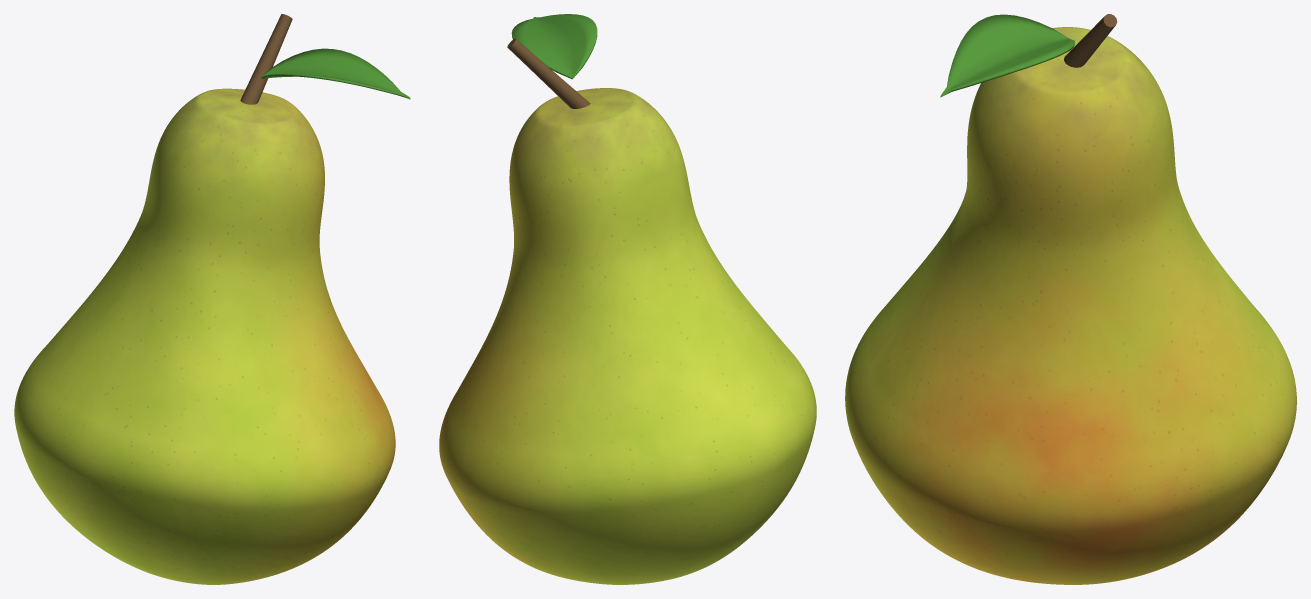
Rendered from pear.glb.
3 renders of one model, left to right at view 1: azimuth 30°, elevation 25°; view 2: azimuth 150°, elevation 25°; view 3: azimuth 270°, elevation 25°, orthographic. The views are drawn at different scales.
Visible parts, largest first — view 1: pear; view 2: pear; view 3: pear.
Boxes of the visible parts, left/top/right/bottom form: pear: left=14, top=14, right=410, bottom=584; pear: left=439, top=14, right=816, bottom=584; pear: left=845, top=14, right=1296, bottom=584.
Size of the model in its own units: 1.35 by 2 by 1.38.
3 materials, 1 textured.
